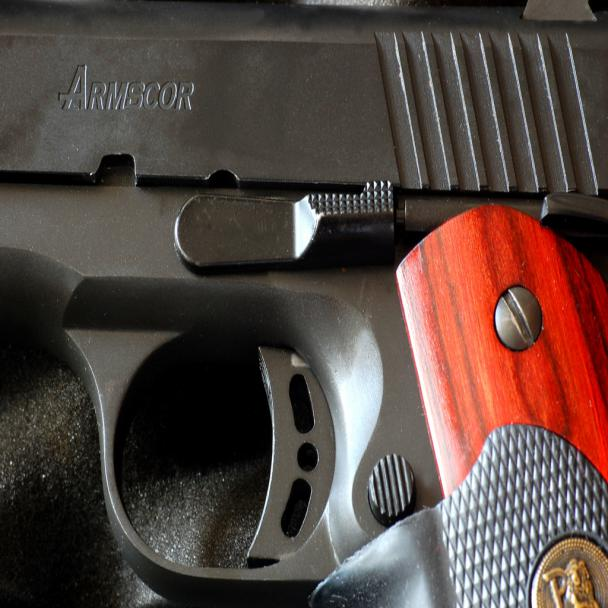Gun: (2, 24, 607, 607)
